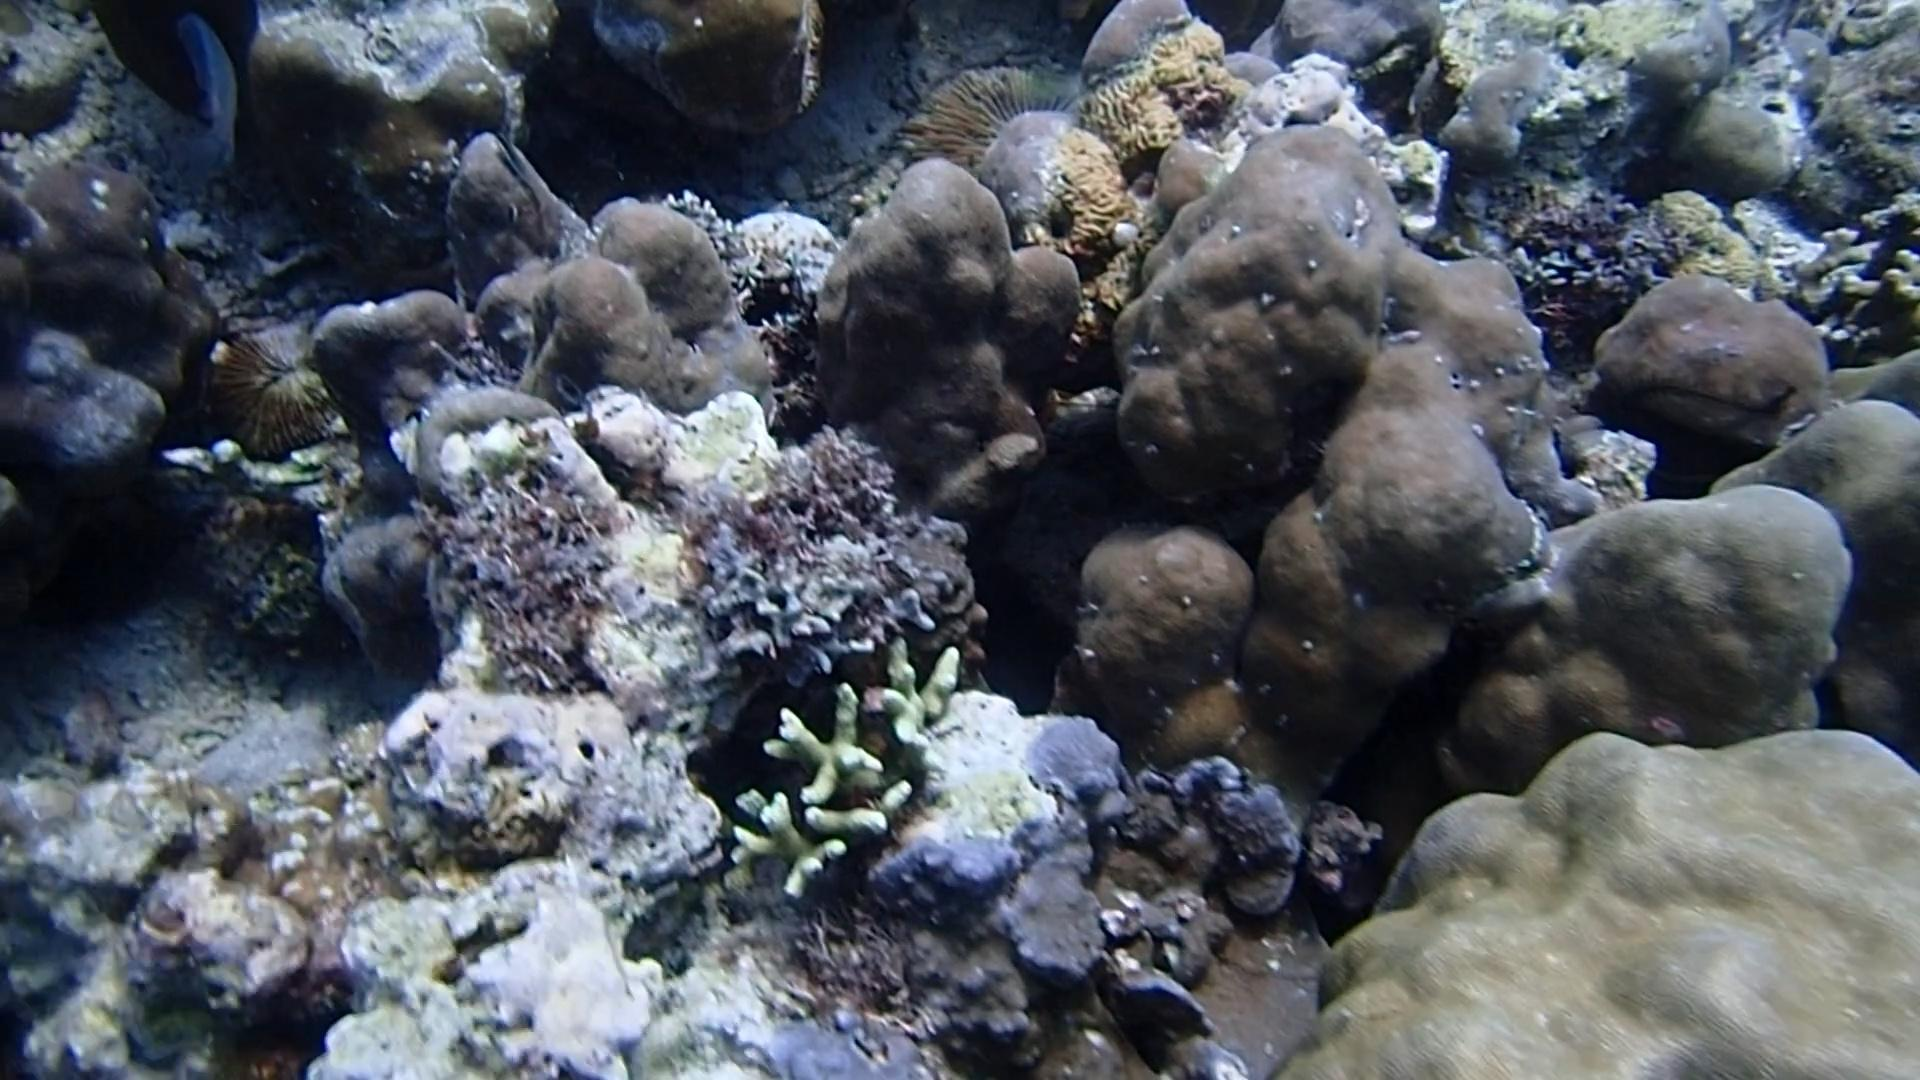Blue Fish Two: (162, 4, 248, 185)
